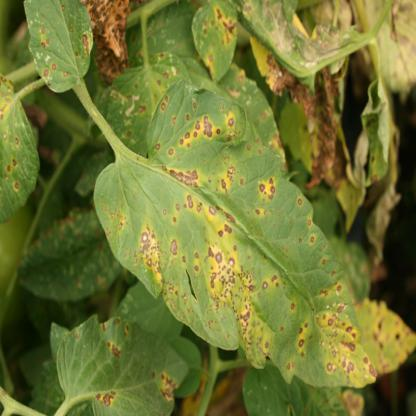tomato septoria leaf spot: (95, 86, 375, 384)
